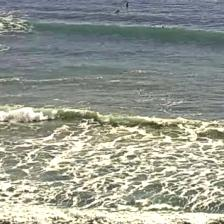surfer: (125, 2, 130, 8), (115, 9, 120, 14), (186, 0, 191, 2), (110, 0, 118, 1)
